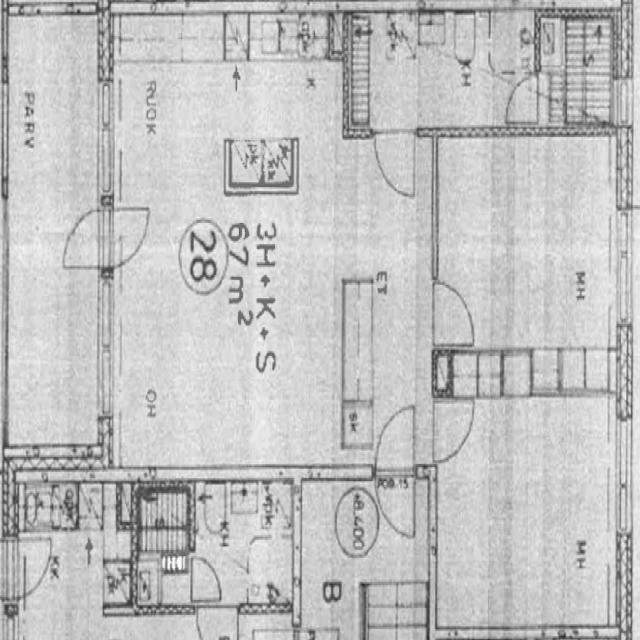door: (98, 210, 150, 268), (374, 465, 414, 540), (374, 404, 414, 478), (61, 210, 112, 268), (375, 128, 415, 200), (432, 284, 476, 345), (431, 402, 475, 462), (504, 76, 540, 124)
